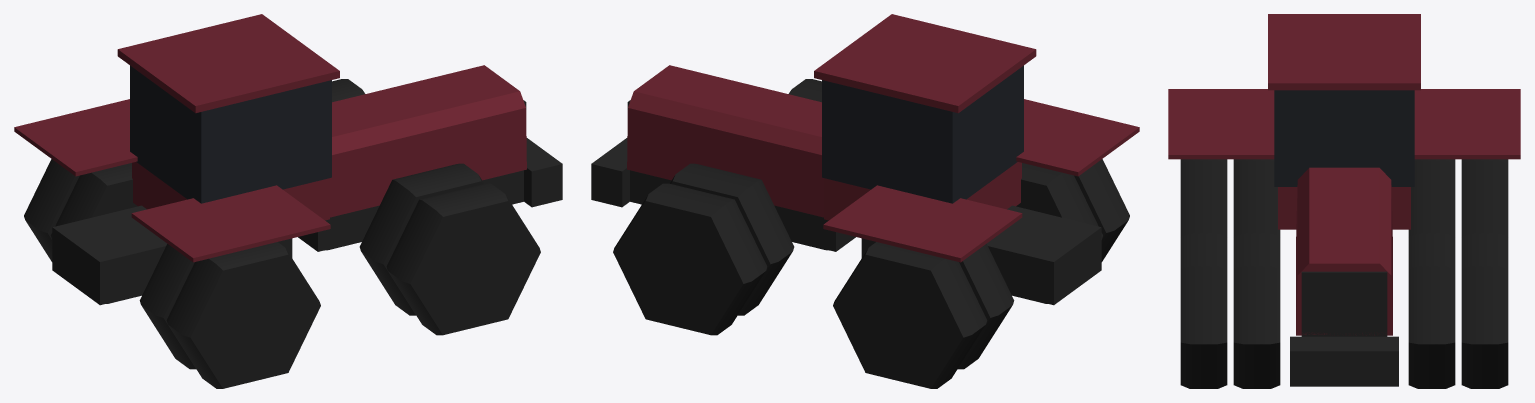
Rendered from SM_Prop_farm_tractor4wd_1_LOD2.glb.
3 renders of one model, left to right at view 1: azimuth 30°, elevation 25°; view 2: azimuth 150°, elevation 25°; view 3: azimuth 270°, elevation 25°, orthographic.
Visible parts, largest first — view 1: SM_Prop_farm_tractor4wd_1_LOD2; view 2: SM_Prop_farm_tractor4wd_1_LOD2; view 3: SM_Prop_farm_tractor4wd_1_LOD2.
Part boxes in pixels (x1,y1,x2,y2): SM_Prop_farm_tractor4wd_1_LOD2: [14, 14, 562, 388]; SM_Prop_farm_tractor4wd_1_LOD2: [591, 14, 1139, 388]; SM_Prop_farm_tractor4wd_1_LOD2: [1168, 14, 1520, 388].
Bounding box in the file's own units: 6.67 × 3.47 × 4.51.
